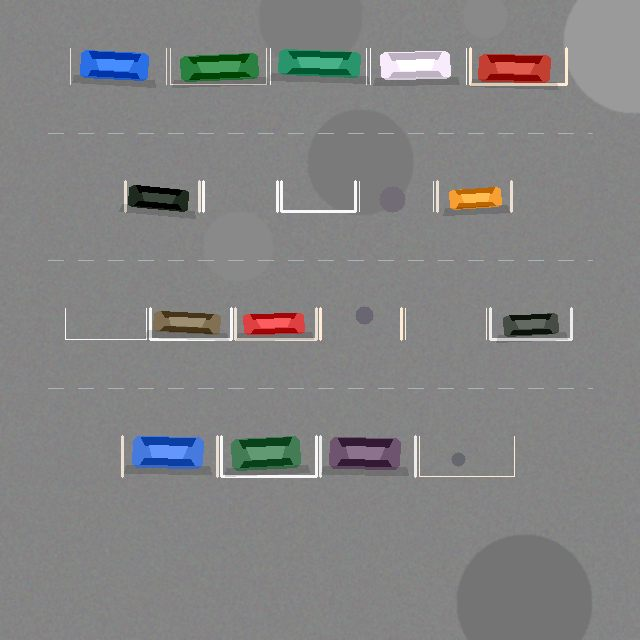space-empty: (419, 436, 514, 476), (65, 308, 146, 339), (320, 308, 401, 339), (405, 308, 486, 339), (203, 181, 277, 211), (281, 181, 355, 211), (359, 181, 433, 211)
space-occupied: (122, 436, 217, 476), (221, 436, 316, 476), (320, 436, 415, 476), (70, 48, 166, 84), (170, 48, 266, 84), (270, 48, 366, 84), (370, 48, 466, 84), (470, 48, 566, 84), (150, 308, 231, 339), (235, 308, 316, 339), (490, 308, 571, 339), (125, 181, 199, 211), (437, 181, 511, 211)
